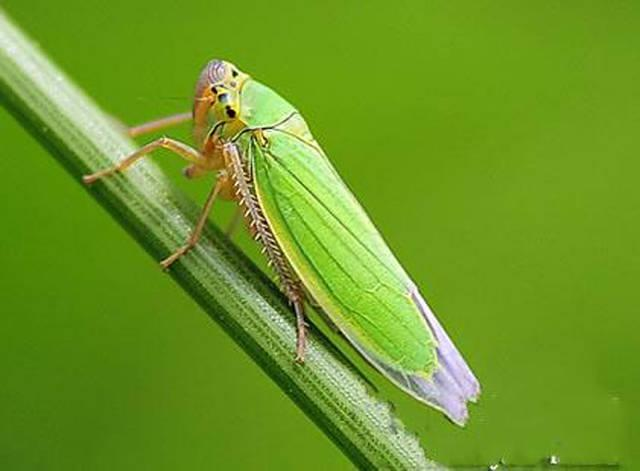Cicadellidae: (80, 57, 483, 429)
